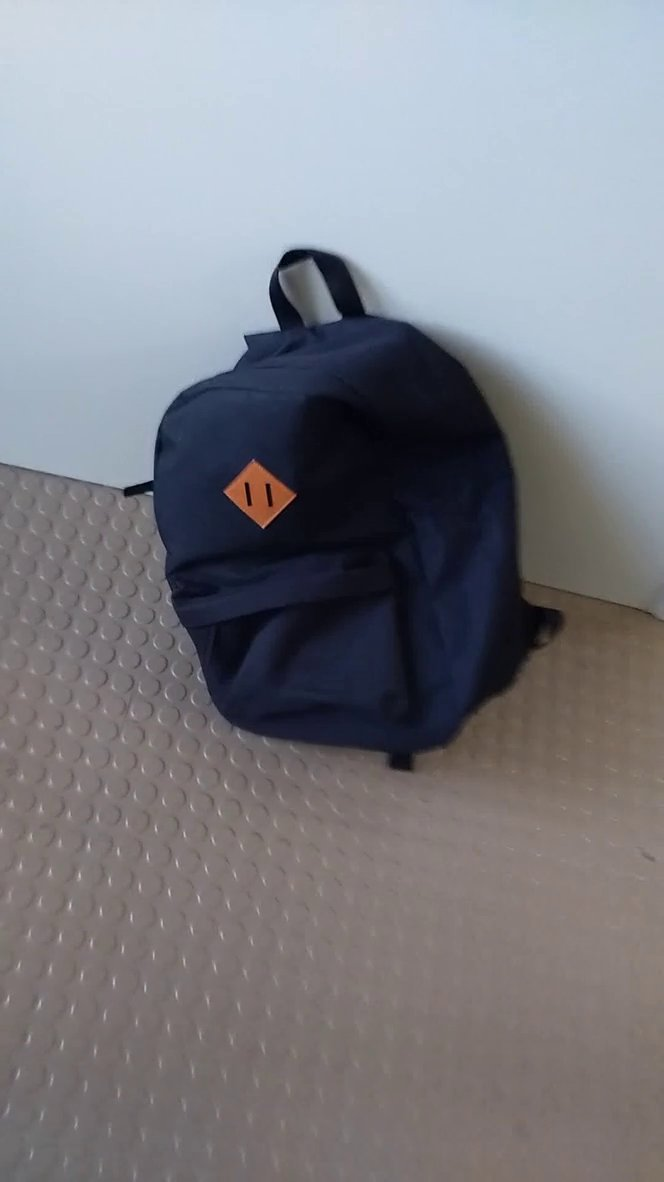bag: (104, 234, 574, 783)
